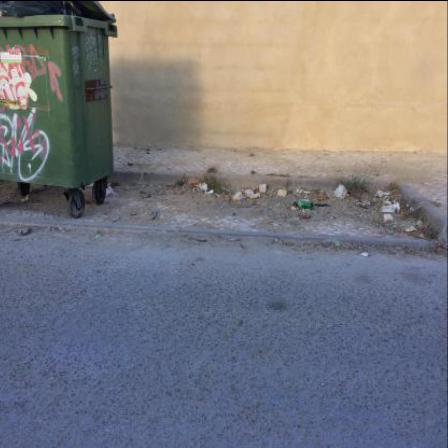Bottle: (295, 200, 315, 209)
Broken glass: (233, 212, 237, 215)
Cigarette: (106, 185, 114, 197), (336, 242, 342, 246), (277, 239, 281, 243), (358, 214, 363, 216), (59, 228, 64, 230)
Other plastic: (24, 194, 30, 202), (97, 234, 103, 237), (280, 213, 284, 215)
Paper: (201, 182, 209, 191), (327, 192, 331, 198)
Plastic bag - wrapper: (2, 2, 66, 18)
Plastic container: (380, 205, 396, 213)
Unlabeled litter: (376, 189, 392, 197), (408, 226, 419, 231), (207, 190, 216, 195), (362, 252, 370, 257), (305, 190, 311, 194), (411, 207, 416, 211), (217, 195, 222, 199), (412, 249, 416, 253)
